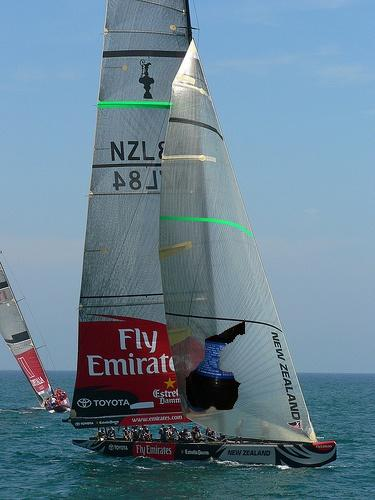tampered: (186, 320, 245, 414)
